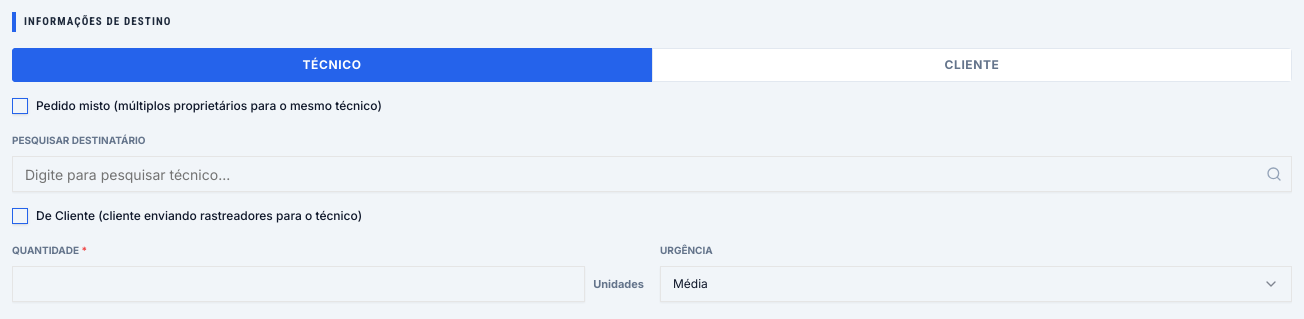
Scenario: NovoPedidoDestinoSection › loadingClientes: select de destinatário (modo Cliente) fica desabilitado
Click the button "Cliente". click: (972, 65)
box: 652,48 -> 1292,82
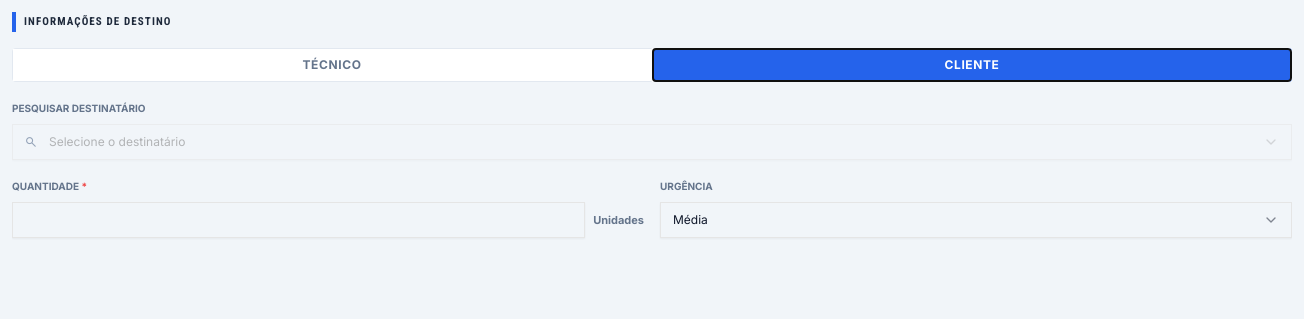
Now the dropdown labelled "Selecione o destinatário" is disabled, box 12,124 -> 1292,160
